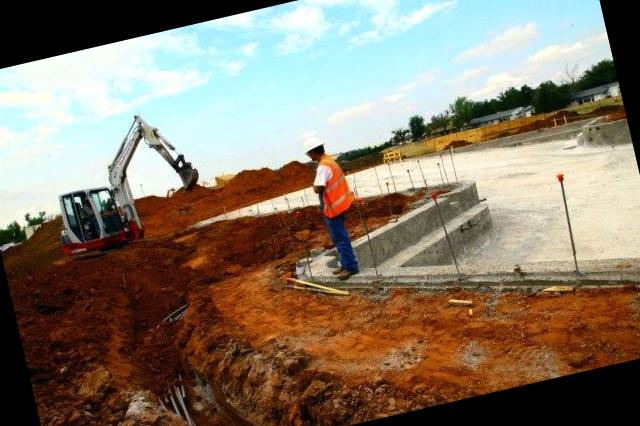person: (285, 124, 382, 295)
